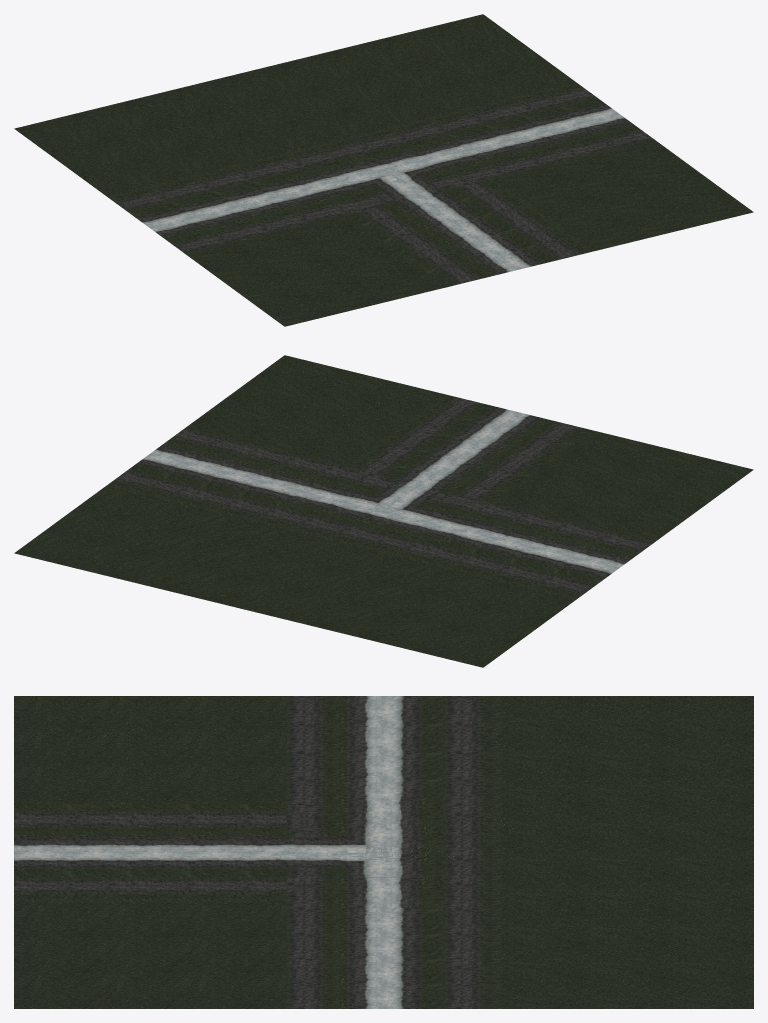
Rendered from SM_EC_Ground_Tile_00.fbx.
The picture shows the model from 3 angles, top to bottom: view 1: azimuth 30°, elevation 25°; view 2: azimuth 150°, elevation 25°; view 3: azimuth 270°, elevation 25°; orthographic projection. The views are drawn at different scales.
Parts seen in each view (by area): view 1: SM_EC_Ground_Tile_00; view 2: SM_EC_Ground_Tile_00; view 3: SM_EC_Ground_Tile_00.
Part boxes in pixels (bbox=[...]): SM_EC_Ground_Tile_00: bbox=[14, 14, 753, 326]; SM_EC_Ground_Tile_00: bbox=[14, 355, 753, 667]; SM_EC_Ground_Tile_00: bbox=[14, 696, 753, 1008].
Size of the model in its own units: 37.5 by 37.48 by 0.00903.
